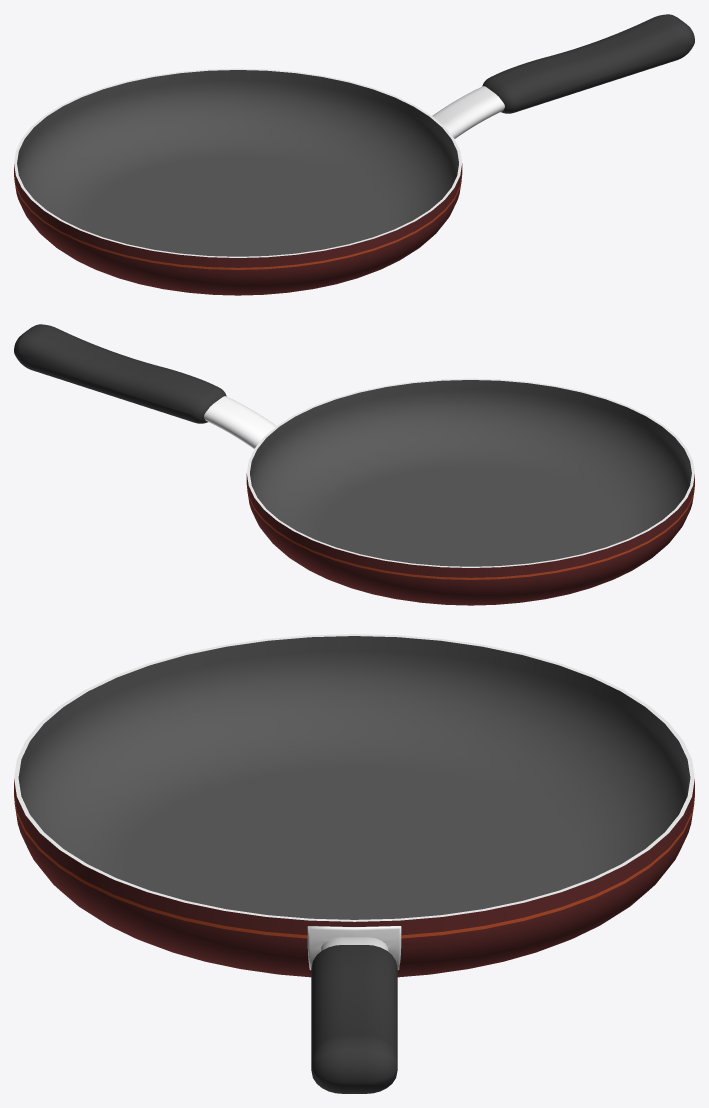
Rendered from fryingPan_1.dae.
3 renders of one model, top to bottom at view 1: azimuth 30°, elevation 25°; view 2: azimuth 150°, elevation 25°; view 3: azimuth 270°, elevation 25°, orthographic. The views are drawn at different scales.
Visible parts, largest first — view 1: pan (×5), group_0, SketchUp; view 2: pan (×5), group_0, SketchUp; view 3: pan (×5), group_0, SketchUp.
Boxes of the visible parts, x1,y1,x2,y2 form: pan (×5): (14, 68, 462, 295); group_0: (482, 14, 694, 113); SketchUp: (432, 86, 504, 138); pan (×5): (246, 378, 694, 605); group_0: (14, 324, 226, 423); SketchUp: (204, 396, 276, 448); pan (×5): (14, 634, 694, 977); group_0: (311, 945, 397, 1093); SketchUp: (307, 926, 401, 969).
Bounding box in the file's own units: 19.58 × 11.81 × 2.83.
